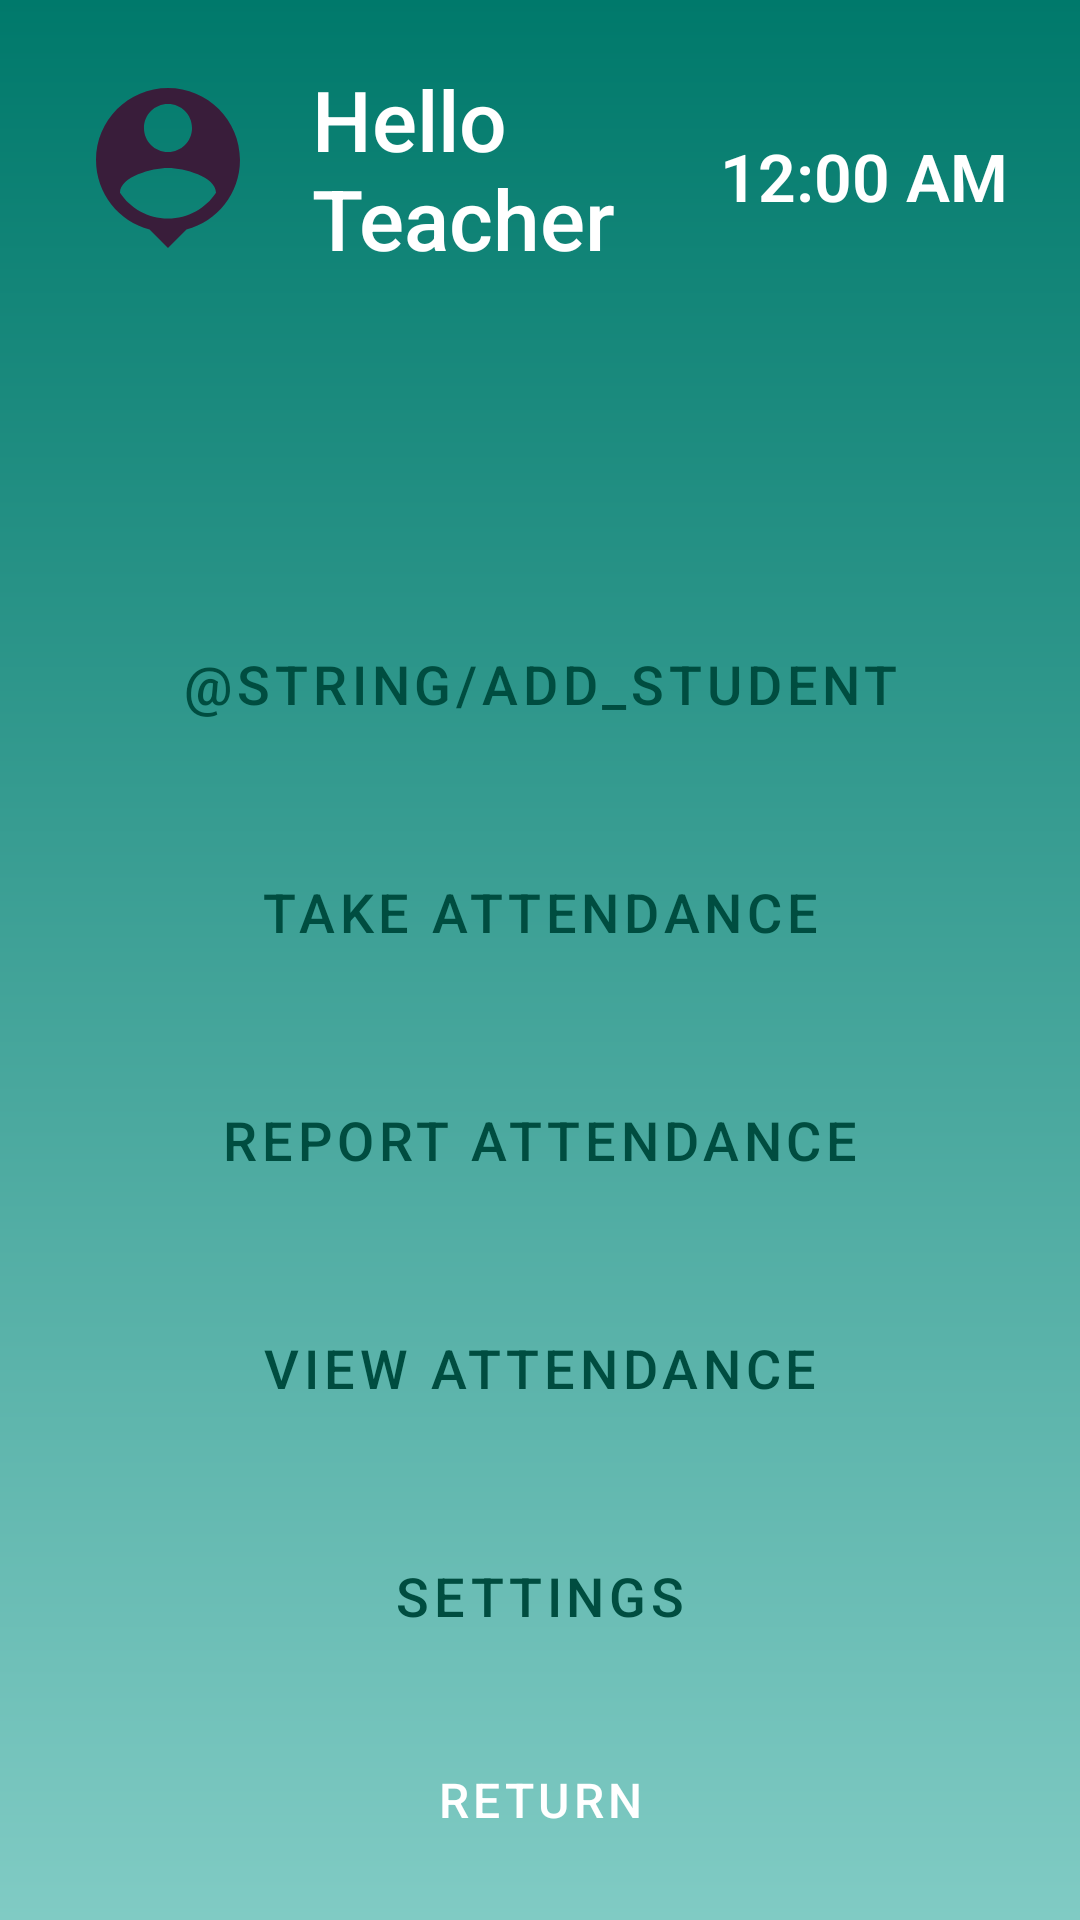

Icon bounding boxes for this 1080×1920 phone screenshot, format box(x1, y1, x2, y2):
person pin: box(96, 88, 240, 248)
